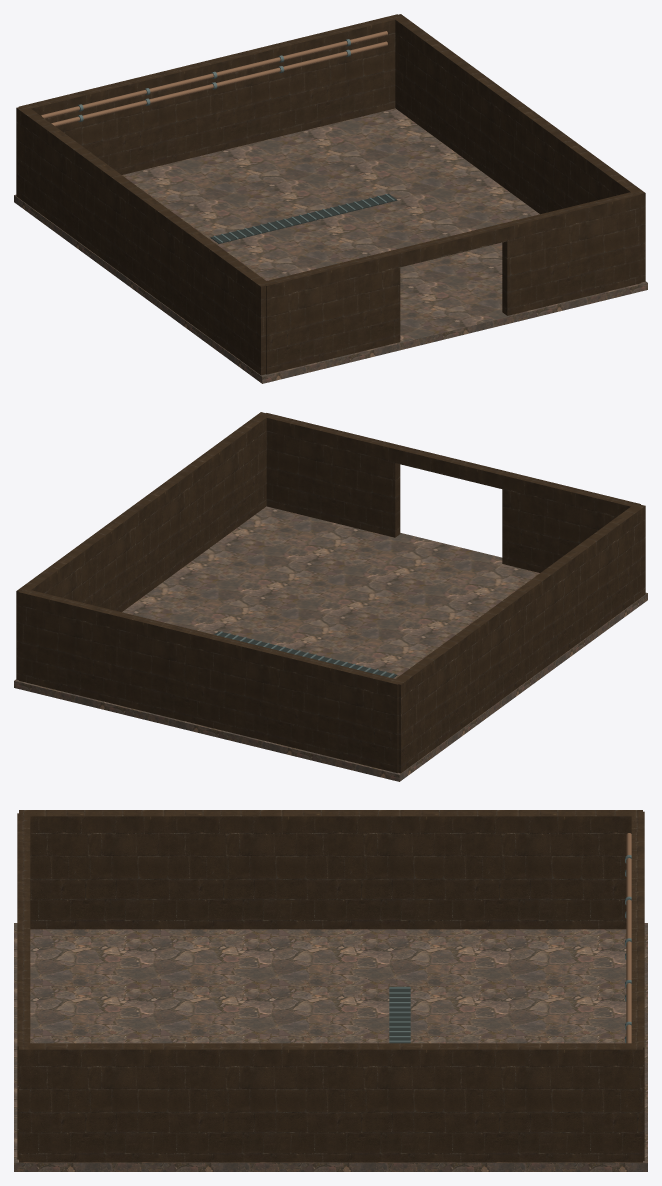
Rendered from pipe-room-rebuilt.glb.
3 renders of one model, top to bottom at view 1: azimuth 30°, elevation 25°; view 2: azimuth 150°, elevation 25°; view 3: azimuth 270°, elevation 25°, orthographic. The views are drawn at different scales.
Visible parts, largest first — view 1: 石板地面, 后方石墙, 两侧石墙, 两侧石墙.001, 入口墙垛.001, 入口墙垛, 入口门楣, 墙面管线.001, 墙面管线, 排水沟; view 2: 石板地面, 后方石墙, 两侧石墙, 两侧石墙.001, 入口墙垛.001, 入口墙垛, 入口门楣, 排水沟; view 3: 石板地面, 两侧石墙.001, 两侧石墙, 后方石墙, 入口墙垛.001, 墙面管线.001, 入口墙垛, 排水沟, 入口门楣.
Boxes of the visible parts, x1,y1,x2,y2 form: 石板地面: [14, 108, 647, 383]; 后方石墙: [19, 14, 401, 174]; 两侧石墙: [16, 105, 270, 375]; 两侧石墙.001: [391, 14, 645, 282]; 入口墙垛.001: [502, 191, 640, 315]; 入口墙垛: [262, 250, 400, 374]; 入口门楣: [393, 223, 509, 267]; 墙面管线.001: [40, 31, 387, 118]; 墙面管线: [51, 41, 387, 126]; 排水沟: [210, 194, 397, 243]; 石板地面: [14, 506, 647, 781]; 后方石墙: [18, 589, 400, 772]; 两侧石墙: [391, 503, 645, 773]; 两侧石墙.001: [16, 412, 270, 679]; 入口墙垛.001: [262, 413, 400, 537]; 入口墙垛: [502, 471, 640, 572]; 入口门楣: [393, 445, 508, 488]; 排水沟: [214, 631, 397, 678]; 石板地面: [14, 923, 647, 1171]; 两侧石墙.001: [19, 1043, 642, 1162]; 两侧石墙: [19, 810, 642, 929]; 后方石墙: [631, 811, 644, 1160]; 入口墙垛.001: [17, 963, 30, 1159]; 墙面管线.001: [626, 833, 631, 1043]; 入口墙垛: [17, 813, 30, 896]; 排水沟: [389, 986, 410, 1043]; 入口门楣: [17, 895, 30, 964].
Bounding box in the file's own units: 17.3 × 4.1 × 19.3.
Materials: 5 (2 with a texture image).
